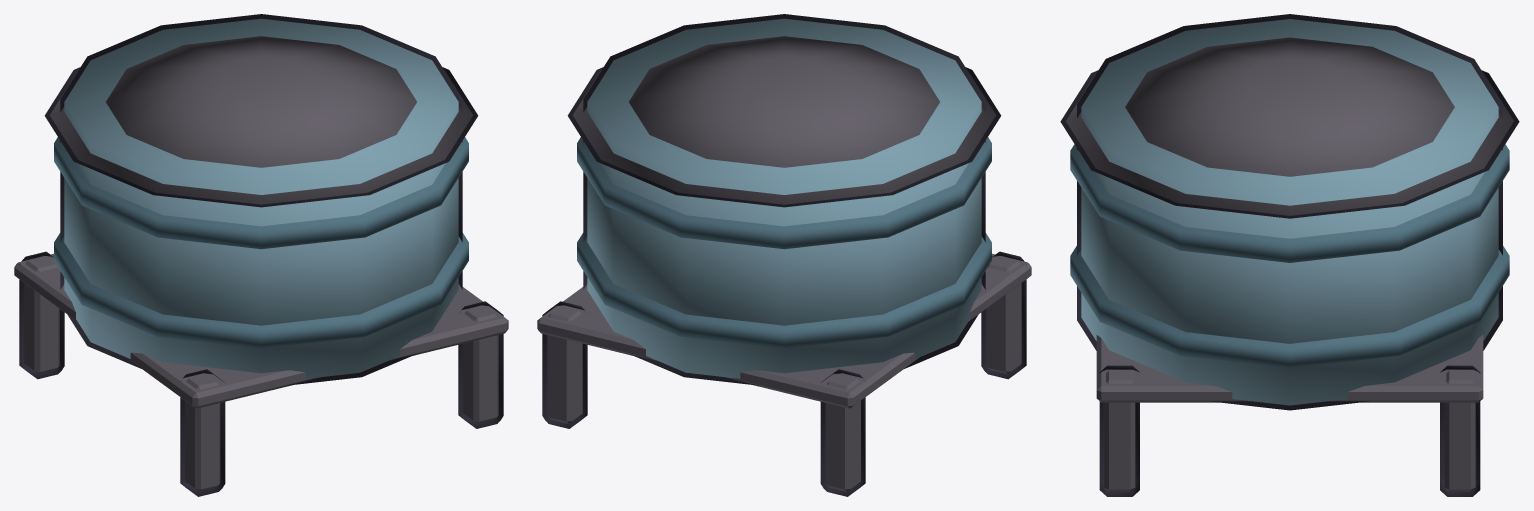
The model's file is water_tank.glb.
3 views of the same model, side by side, from view 1: azimuth 30°, elevation 25°; view 2: azimuth 150°, elevation 25°; view 3: azimuth 270°, elevation 25° (orthographic). The views are drawn at different scales.
Visible parts, largest first — view 1: water_tank; view 2: water_tank; view 3: water_tank.
Boxes of the visible parts, <box> form: water_tank: <box>14,14,508,496</box>; water_tank: <box>537,14,1031,496</box>; water_tank: <box>1060,14,1519,496</box>.
Bounding box in the file's own units: 2.97 × 2.47 × 2.97.
